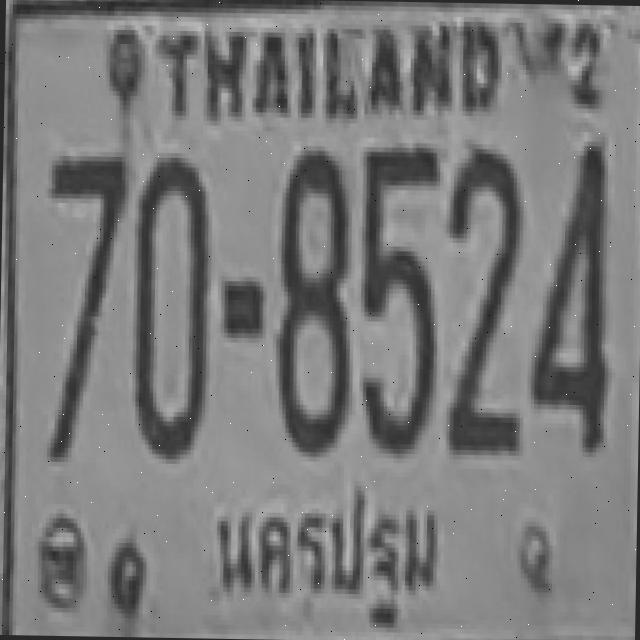0: (130, 154, 209, 456)
2: (443, 146, 521, 411)
4: (526, 138, 608, 450)
5: (358, 144, 438, 320)
7: (44, 151, 125, 453), (44, 153, 126, 390)
8: (274, 148, 350, 450)
NakhonPathom: (202, 480, 448, 638)
